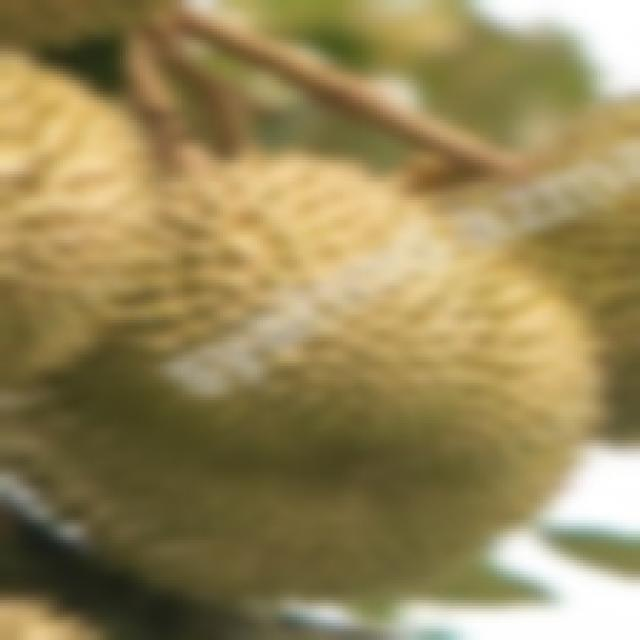d197: (120, 143, 449, 451), (0, 78, 146, 380), (422, 276, 577, 500)
